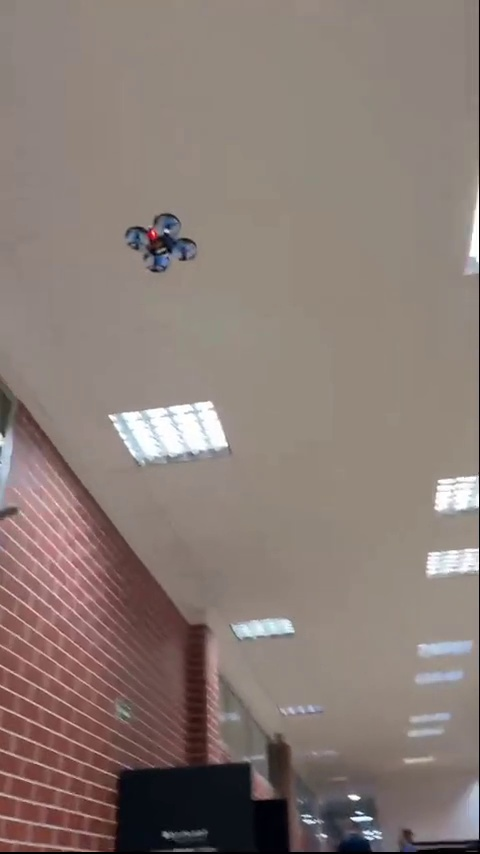drone: (123, 214, 198, 274)
